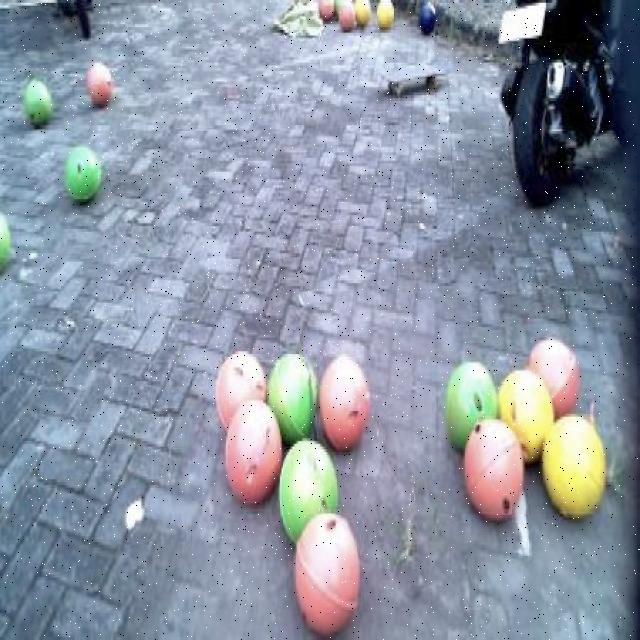buoy: (296, 511, 362, 632), (460, 416, 527, 534), (541, 407, 607, 522), (221, 397, 284, 515), (279, 432, 343, 532), (440, 357, 499, 458), (498, 365, 557, 466), (316, 352, 374, 452), (527, 332, 584, 422), (214, 346, 268, 436), (267, 349, 318, 433), (63, 137, 103, 203), (23, 71, 57, 131), (0, 193, 18, 282), (88, 59, 113, 105)
